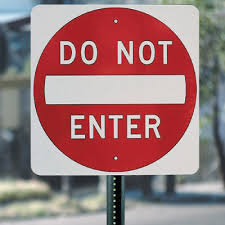doNotEnter: (29, 2, 201, 176)
